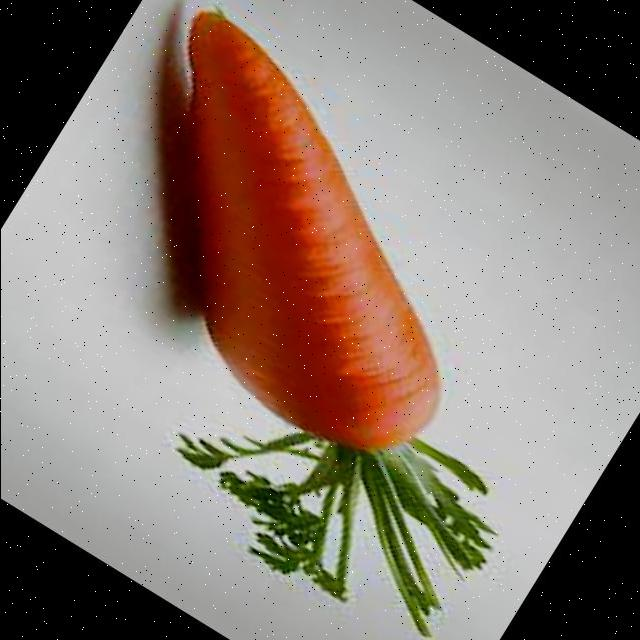carrot: (179, 12, 492, 636)
